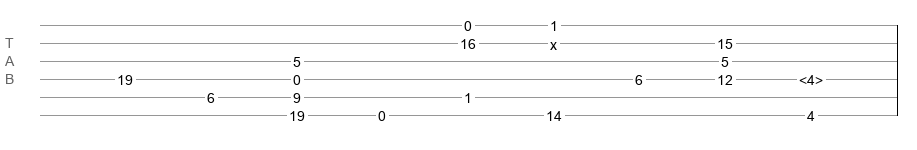0: (293, 72, 301, 82), (378, 108, 386, 118), (464, 18, 472, 28)
1: (464, 90, 472, 100), (550, 18, 558, 28)
12: (717, 72, 733, 82)
14: (546, 108, 562, 118)
15: (717, 36, 733, 46)
16: (460, 36, 476, 46)
19: (117, 72, 133, 82), (289, 108, 305, 118)
4: (807, 108, 815, 118)
5: (293, 54, 301, 64), (721, 54, 729, 64)
6: (207, 90, 215, 100), (635, 72, 643, 82)
9: (293, 90, 301, 100)
harmonic: (799, 72, 823, 82)
x: (550, 37, 557, 45)
